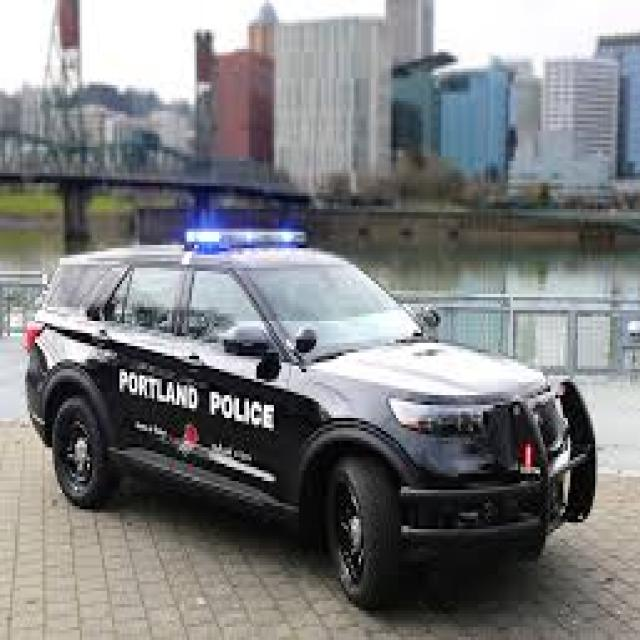cop: (26, 230, 604, 616)
